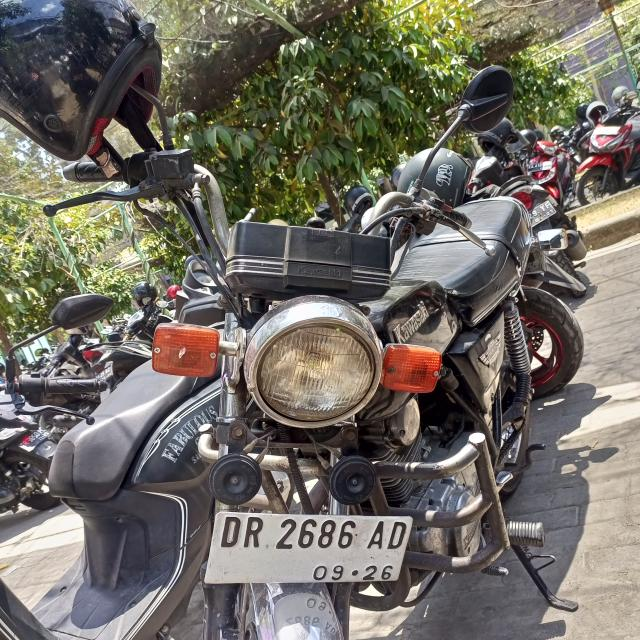plate: (204, 510, 416, 589)
